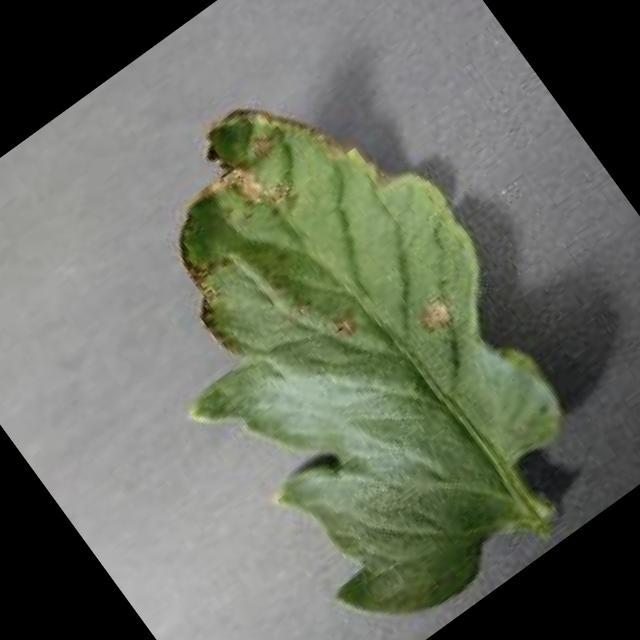Tomato bacterial spot leaf: (44, 22, 640, 640)
